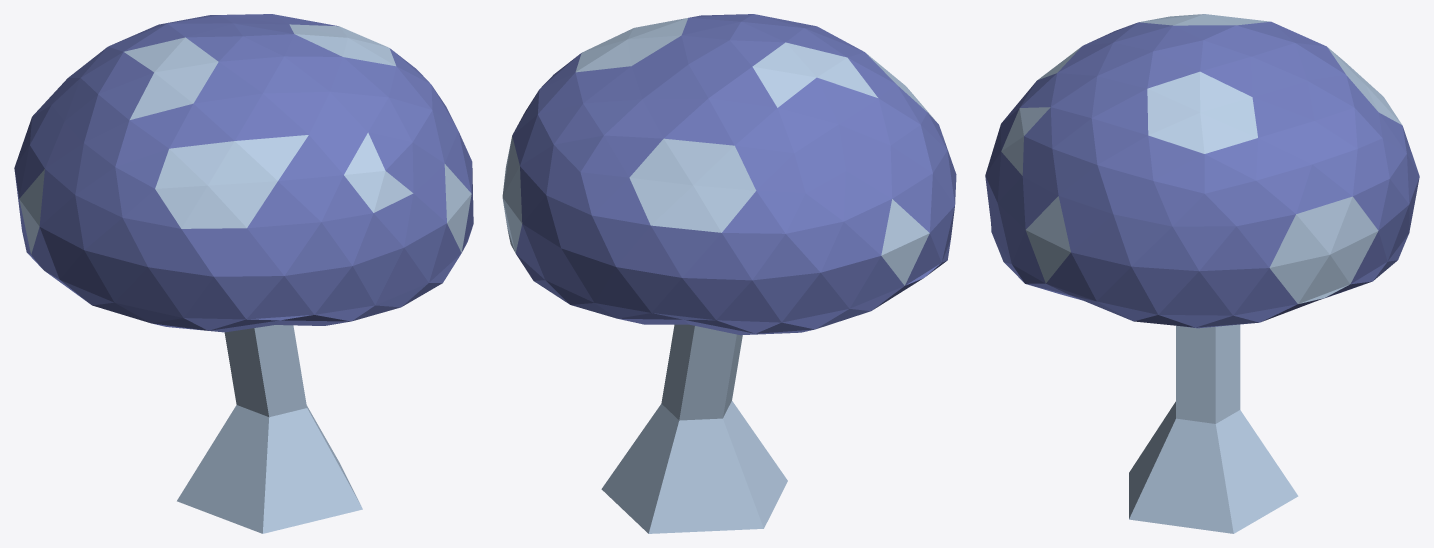
Rendered from Mushroom2.fbx.
3 renders of one model, left to right at view 1: azimuth 30°, elevation 25°; view 2: azimuth 150°, elevation 25°; view 3: azimuth 270°, elevation 25°, orthographic. The views are drawn at different scales.
Visible parts, largest first — view 1: Cylinder; view 2: Cylinder; view 3: Cylinder.
Boxes of the visible parts, left/top/right/bottom form: Cylinder: left=14, top=14, right=473, bottom=533; Cylinder: left=502, top=14, right=956, bottom=533; Cylinder: left=985, top=14, right=1419, bottom=533.
Size of the model in its own units: 555 by 612 by 546.
